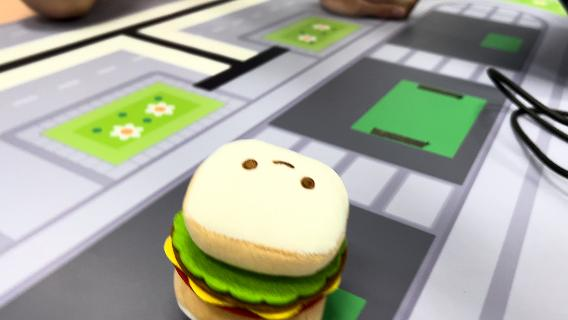sandwich: (163, 136, 353, 318)
